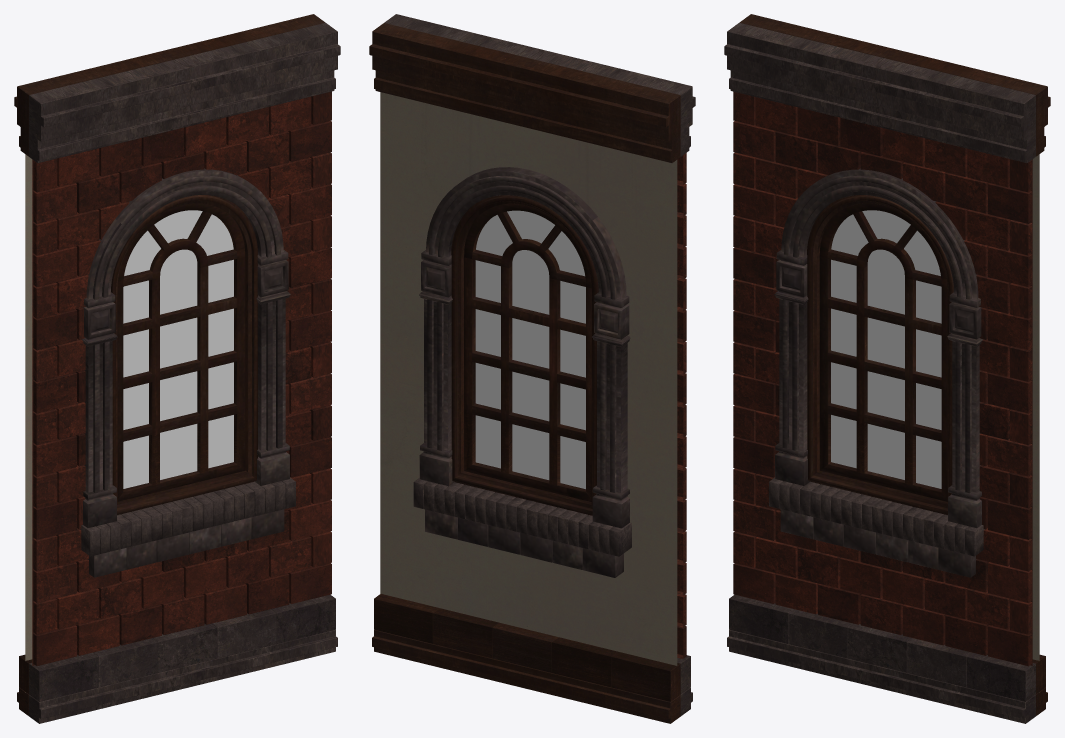
The model's file is SK3 WINDOW 1 SHORT.fbx.
The picture shows the model from 3 angles, left to right: view 1: azimuth 30°, elevation 25°; view 2: azimuth 150°, elevation 25°; view 3: azimuth 330°, elevation 25°; orthographic projection.
Parts seen in each view (by area): view 1: SK3 WINDOW 1 SHORT; view 2: SK3 WINDOW 1 SHORT; view 3: SK3 WINDOW 1 SHORT.
Boxes of the visible parts, x1,y1,x2,y2 form: SK3 WINDOW 1 SHORT: [14, 14, 340, 723]; SK3 WINDOW 1 SHORT: [369, 14, 695, 723]; SK3 WINDOW 1 SHORT: [724, 14, 1050, 723].
Size of the model in its own units: 200 by 400 by 37.1.
